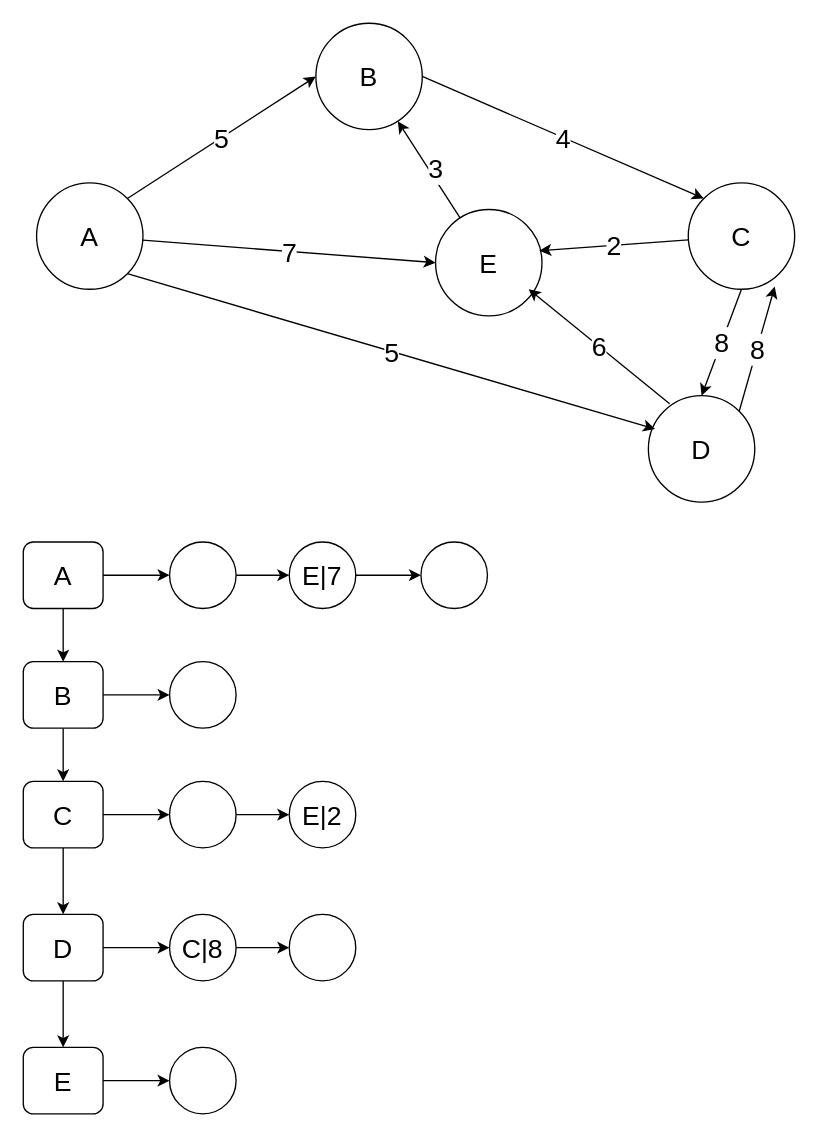
The diagram is 818 pixels wide and 1137 high, and some of its shapes have lost their labels. The box of each missing label's shape, as (x1, y1, x2, y2) in pixels:
B|3: (168, 1046, 236, 1114)
B|5: (168, 541, 236, 608)
C|4: (168, 660, 236, 728)
D|5: (420, 541, 487, 608)
D|8: (168, 780, 236, 848)
E|6: (288, 913, 356, 981)
